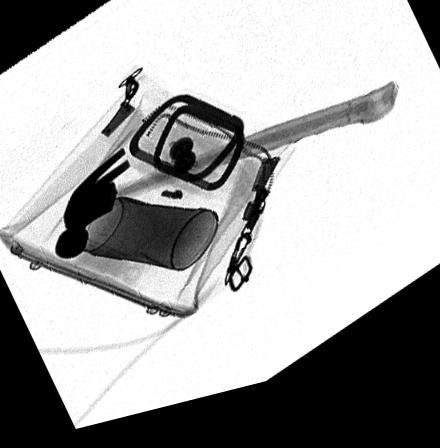Hammer: (55, 102, 396, 263)
